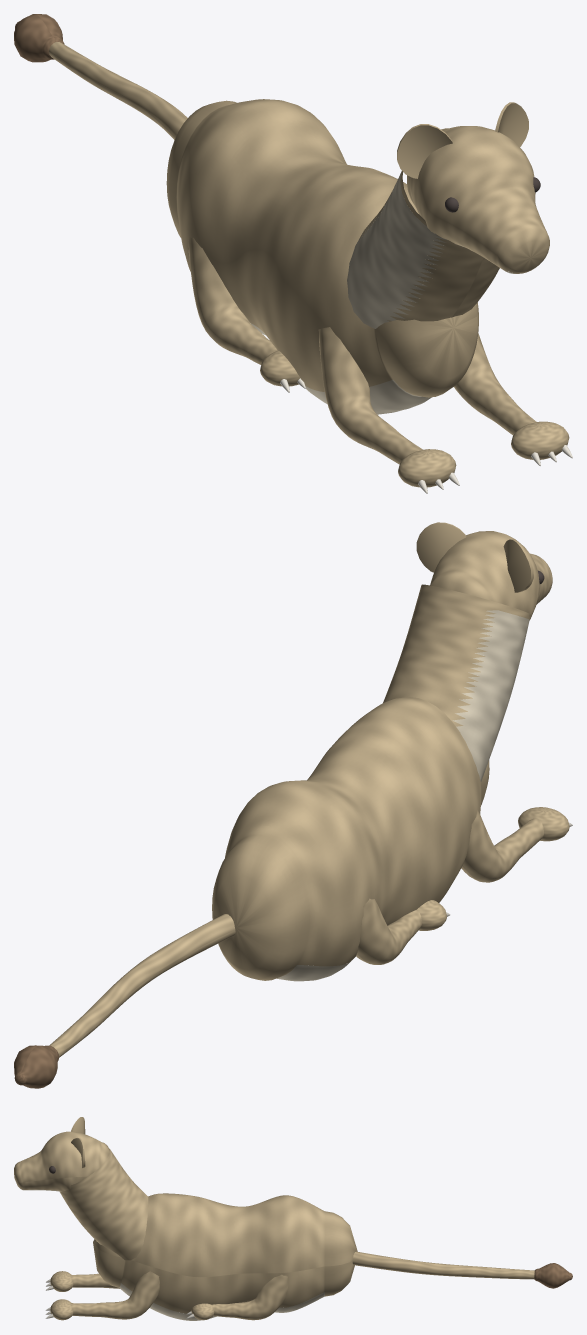
Rendered from exotic-wildlife-hd-african-lioness-lying-6fe771d6__30234.glb.
The picture shows the model from 3 angles, top to bottom: view 1: azimuth 30°, elevation 25°; view 2: azimuth 150°, elevation 25°; view 3: azimuth 270°, elevation 25°; orthographic projection. The views are drawn at different scales.
Parts seen in each view (by area): view 1: african-lioness-lying; view 2: african-lioness-lying; view 3: african-lioness-lying.
Part boxes in pixels (left/top/right/bottom): african-lioness-lying: left=14, top=14, right=572, bottom=493; african-lioness-lying: left=14, top=522, right=572, bottom=1088; african-lioness-lying: left=14, top=1117, right=572, bottom=1320.
Bounding box in the file's own units: 0.57 × 1.21 × 3.24.
6 materials, 3 textured.
